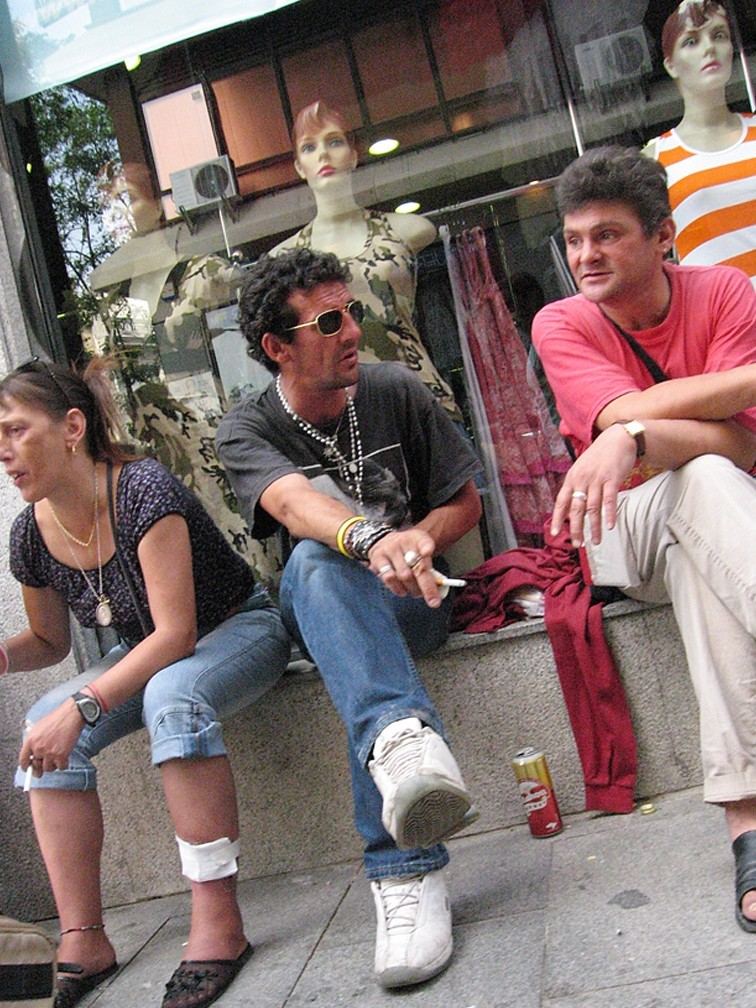face_no_mask: (558, 145, 675, 300), (253, 260, 362, 392), (1, 365, 97, 502)
